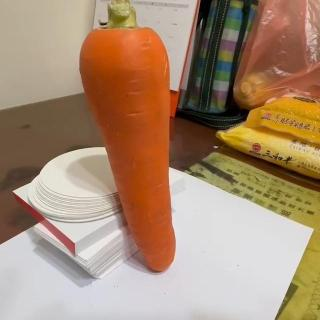carrot: (79, 0, 176, 272)
